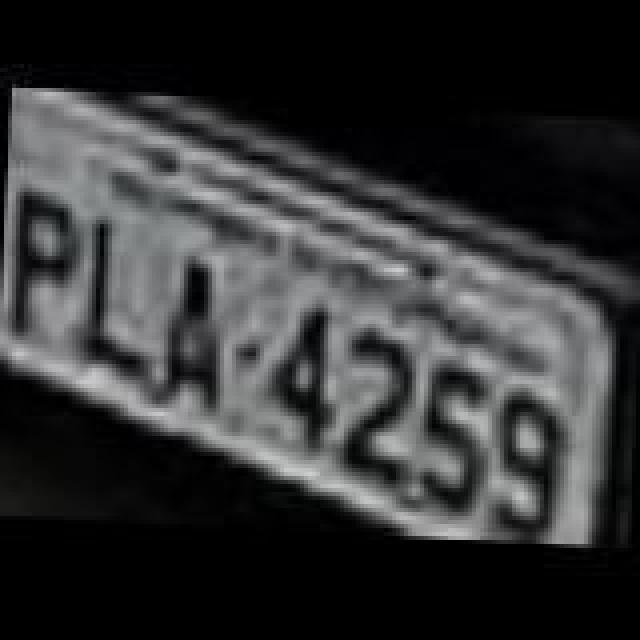2: (336, 330, 424, 486)
4: (264, 300, 344, 452)
5: (416, 364, 496, 516)
9: (490, 390, 566, 546)
A: (158, 254, 234, 418)
L: (80, 222, 160, 386)
P: (4, 188, 92, 348)
